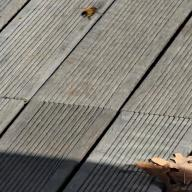Bee: (69, 4, 112, 23)
